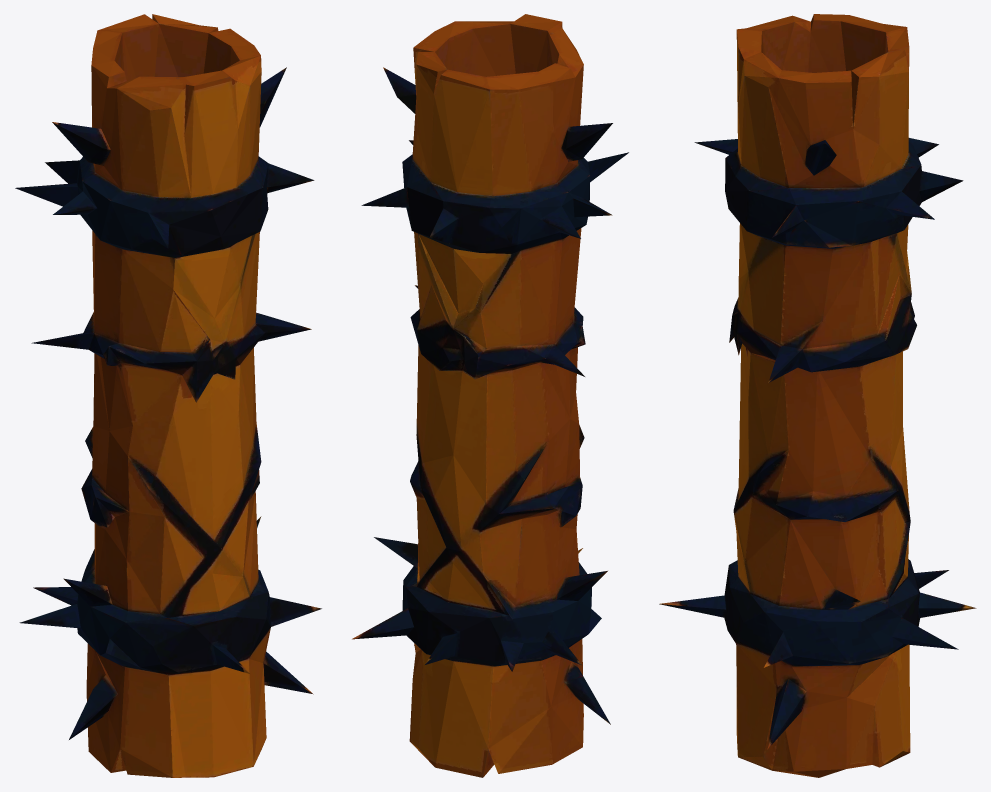
The model's file is spiked_wooden_stake.glb.
The picture shows the model from 3 angles, left to right: view 1: azimuth 30°, elevation 25°; view 2: azimuth 150°, elevation 25°; view 3: azimuth 270°, elevation 25°; orthographic projection.
Size of the model in its own units: 0.7096 by 1.97 by 0.8086.
1 material, 1 textured.
